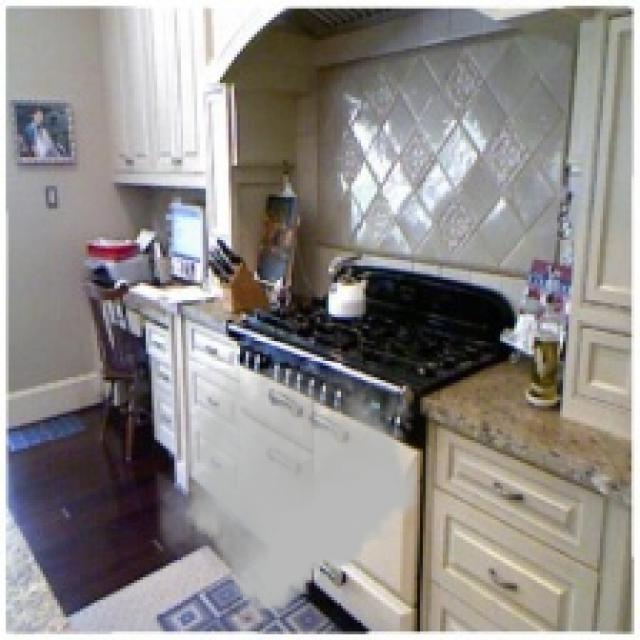Smoke: (151, 368, 423, 612)
